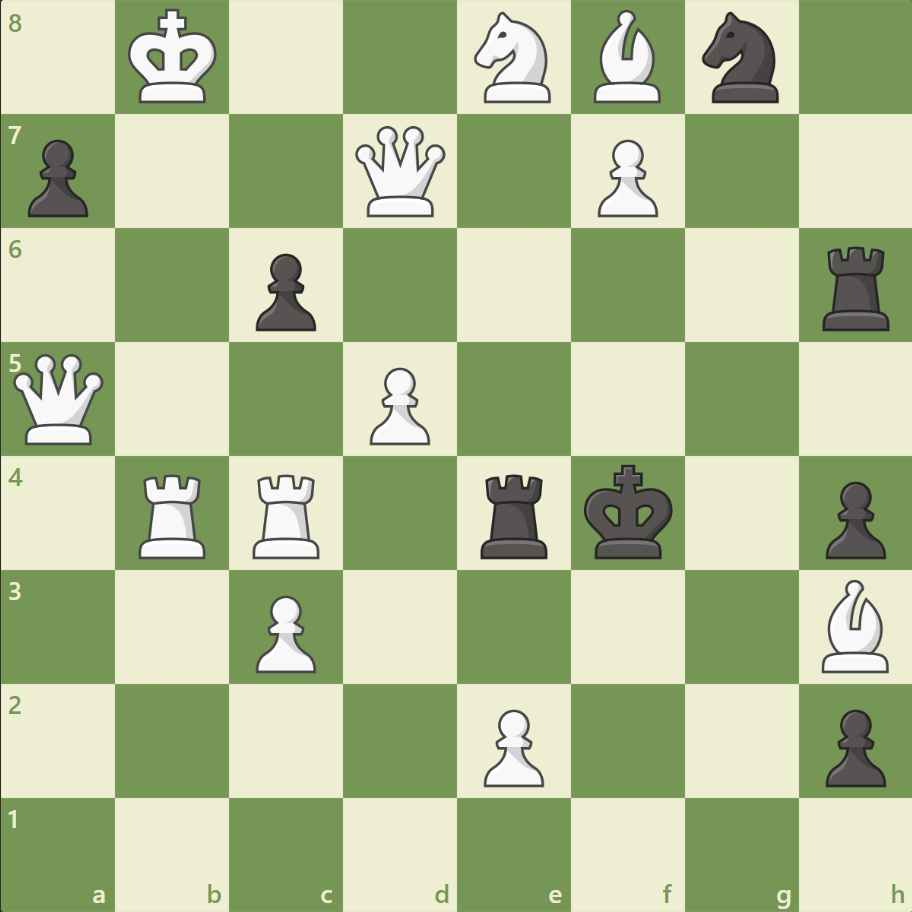B: (585, 6, 669, 109), (812, 574, 896, 676)
K: (124, 4, 224, 112)
N: (465, 7, 562, 110)
P: (247, 586, 322, 677), (474, 700, 549, 791), (588, 132, 662, 223), (361, 359, 435, 450)
Q: (351, 122, 450, 222), (10, 349, 109, 449)
R: (246, 466, 329, 563), (133, 466, 215, 563)
k: (579, 458, 679, 566)
n: (692, 7, 789, 110)
p: (20, 132, 95, 223), (247, 246, 322, 337), (815, 473, 889, 564), (815, 700, 889, 791)
r: (814, 239, 897, 336), (473, 466, 556, 563)
